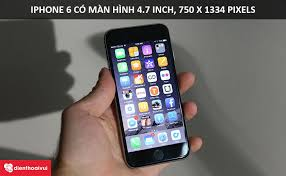iphone: (100, 19, 190, 168)
iphone6: (99, 19, 189, 168)
